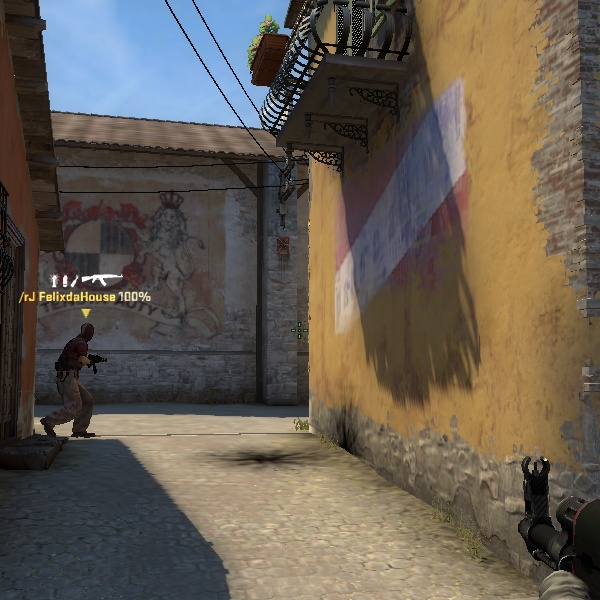t_body: (52, 321, 112, 440)
